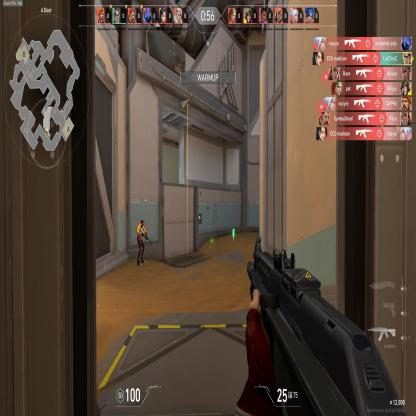enemy: (134, 215, 148, 266)
